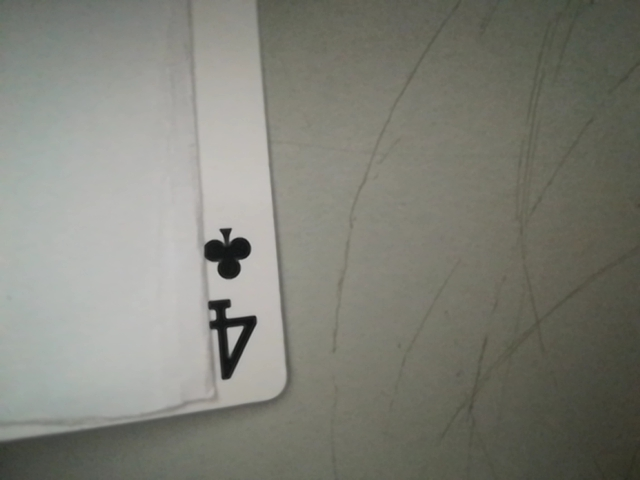mh 4: (187, 219, 276, 396)
